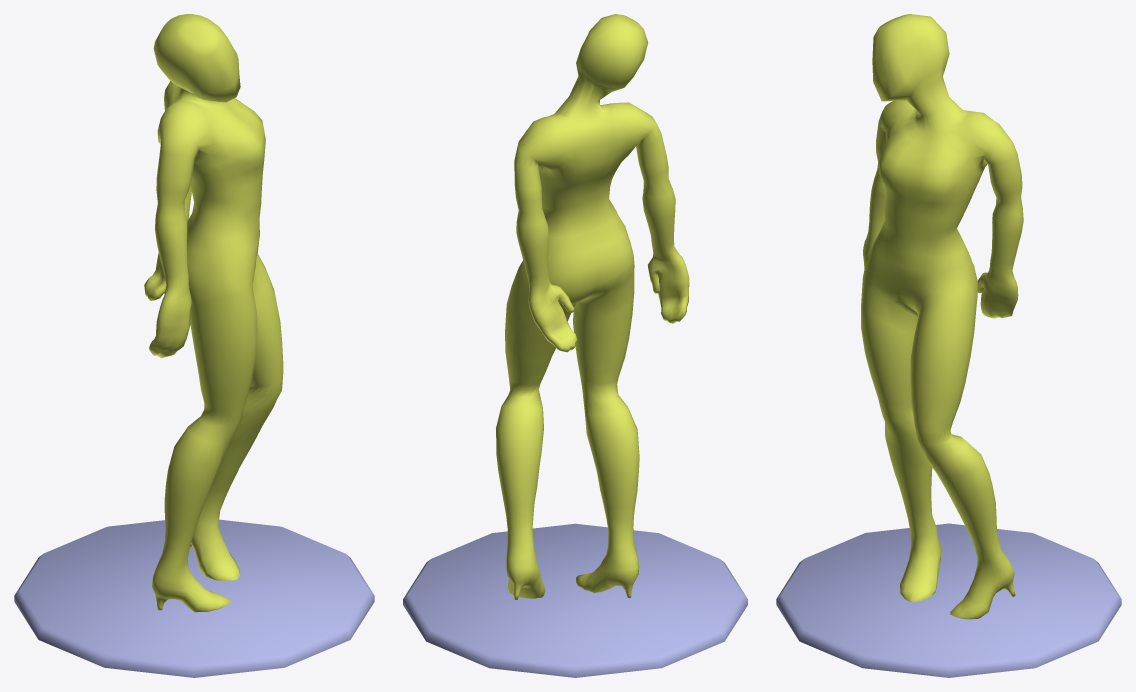
File: mannequin_6.fbx
3 views of the same model, side by side, from view 1: azimuth 30°, elevation 25°; view 2: azimuth 150°, elevation 25°; view 3: azimuth 270°, elevation 25° (orthographic). The views are drawn at different scales.
Visible parts, largest first — view 1: mannequin_6; view 2: mannequin_6; view 3: mannequin_6.
Part boxes in pixels (x1,y1,x2,y2): mannequin_6: (14, 14, 374, 677); mannequin_6: (403, 14, 747, 677); mannequin_6: (776, 14, 1121, 677).
Bounding box in the file's own units: 6.73 × 12.43 × 6.73.
